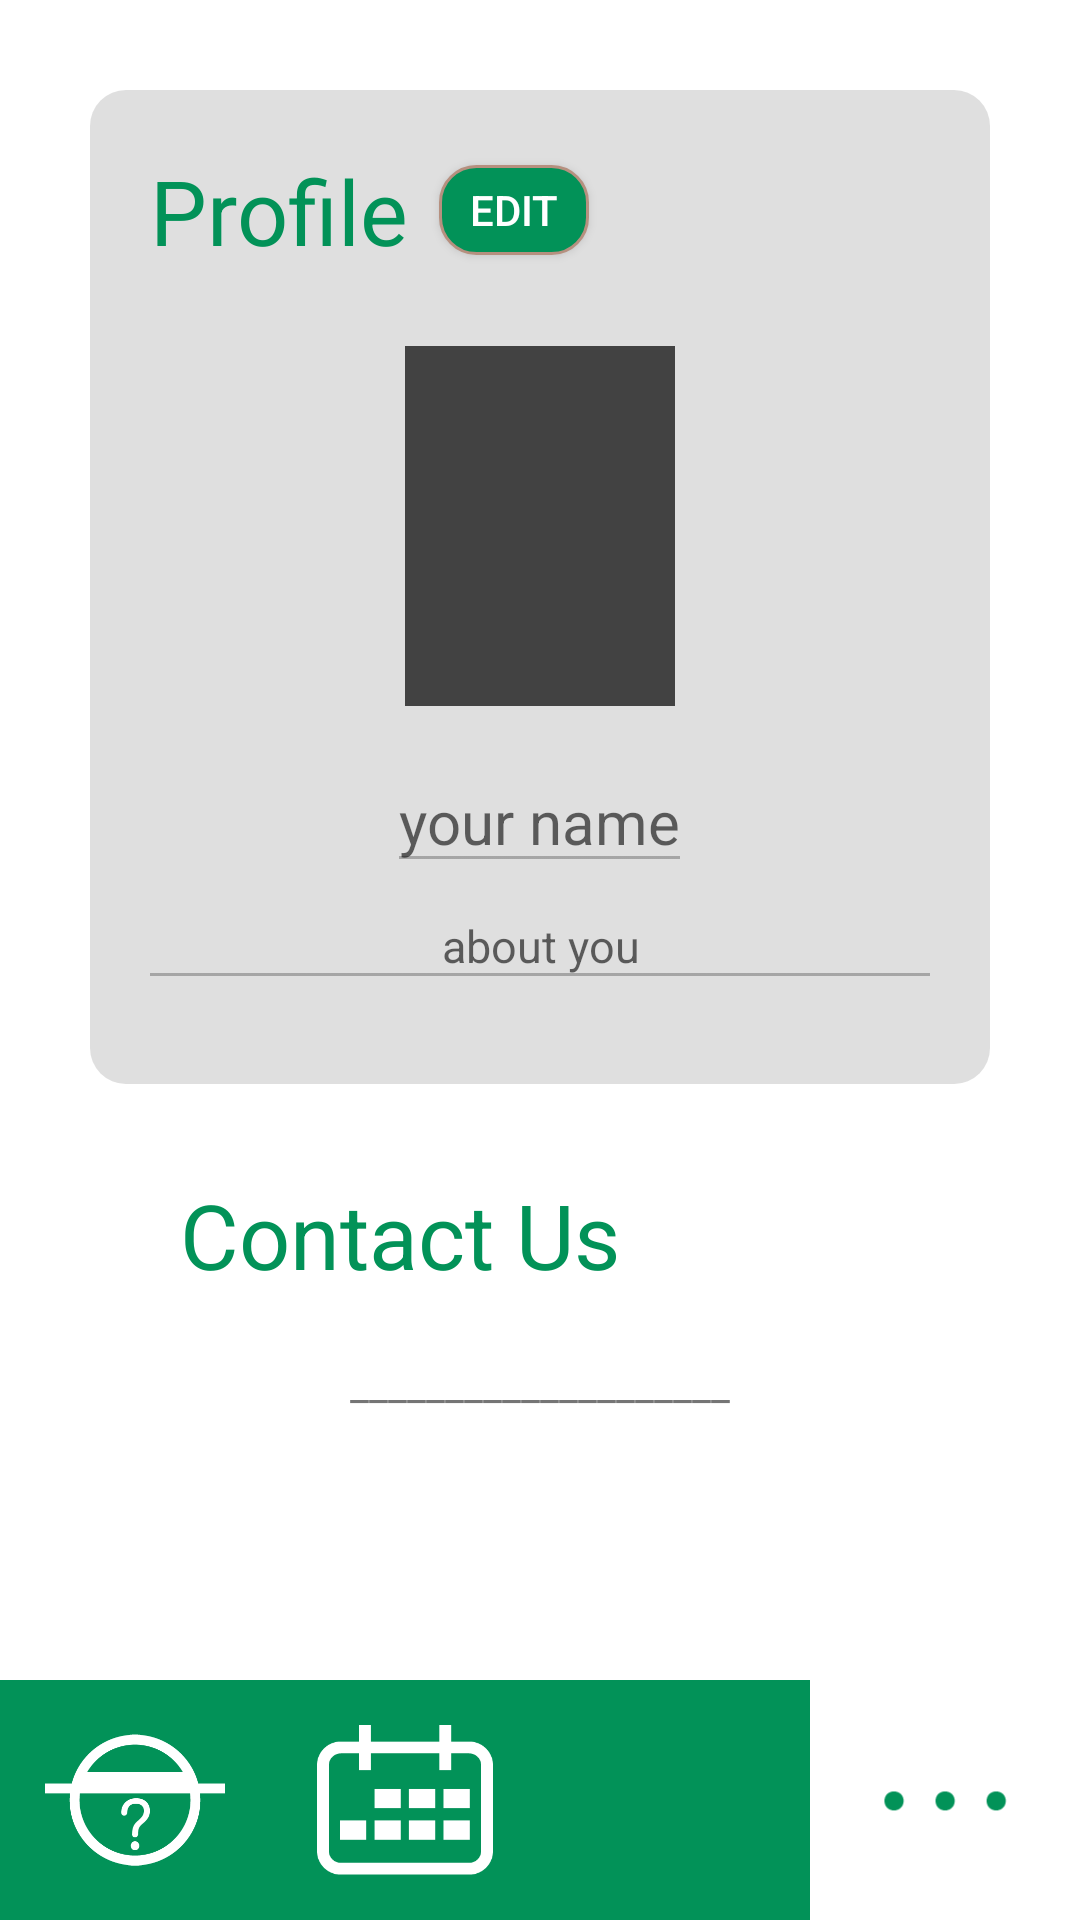

Point at icon controls on the screen. Image size 1080x1920, points as (x,y).
calendar: (405,1800)
question: (135,1800)
